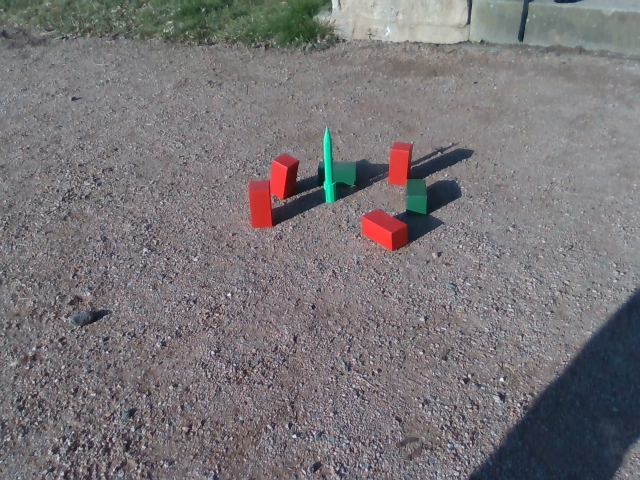Probe: (319, 123, 338, 206)
